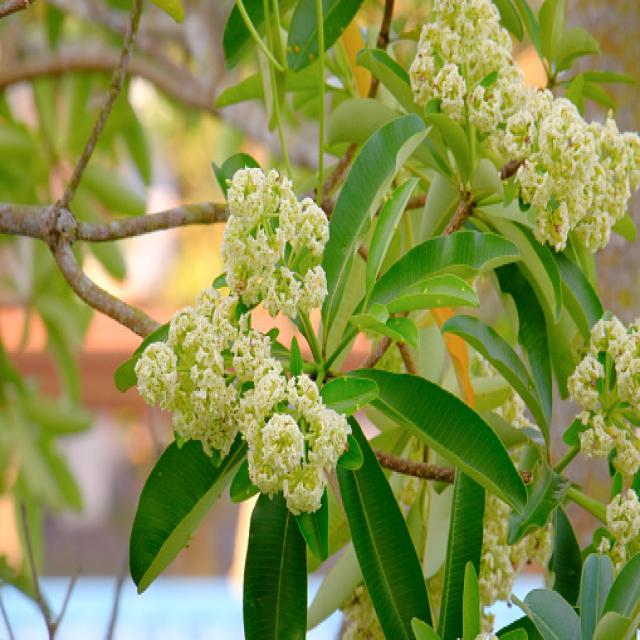Indian Pulai: (143, 120, 437, 582), (391, 0, 638, 258), (401, 415, 640, 640), (523, 278, 640, 504)
